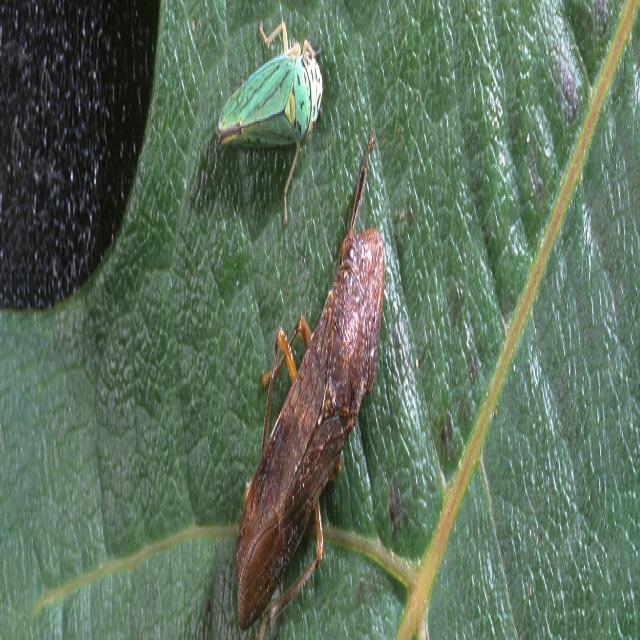Yechan: (214, 16, 334, 218)
